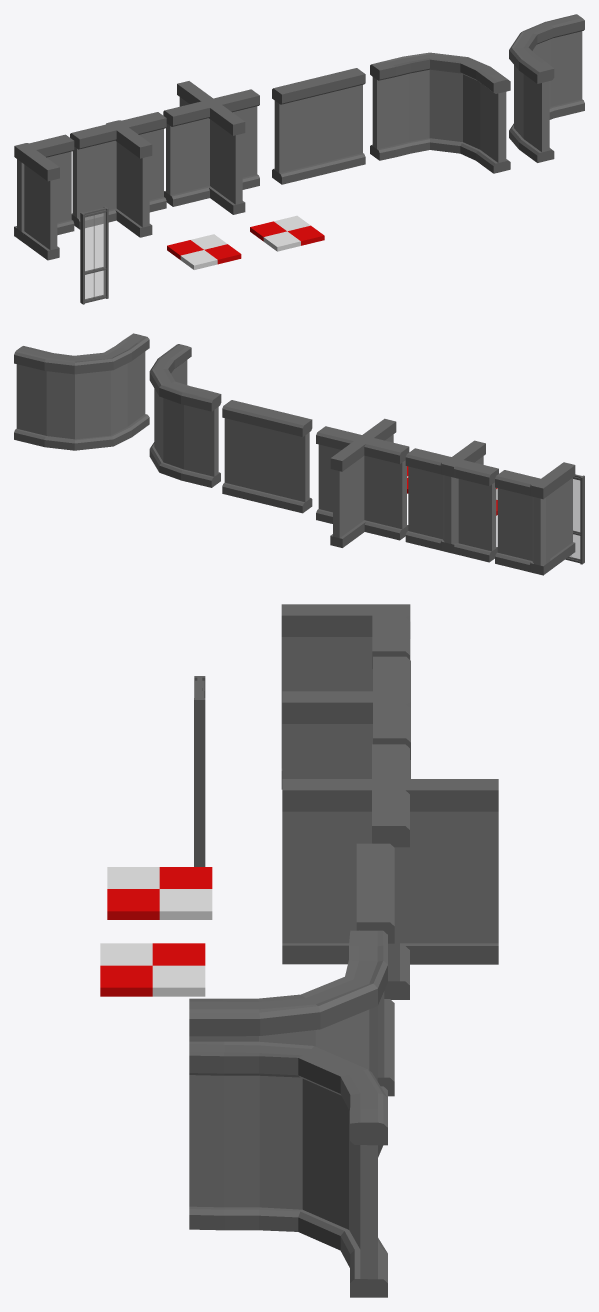
Rendered from WallsPack.fbx.
3 renders of one model, top to bottom at view 1: azimuth 30°, elevation 25°; view 2: azimuth 150°, elevation 25°; view 3: azimuth 270°, elevation 25°, orthographic. The views are drawn at different scales.
Parts seen in each view (by area): view 1: hoek_muur, X_muur, T_muur, muur, hoek_muur1, L_muur, glaze_muur, vloer, kleed; view 2: hoek_muur1, X_muur, T_muur, muur, hoek_muur, L_muur, glaze_muur; view 3: hoek_muur1, X_muur, hoek_muur, T_muur, L_muur, vloer, kleed, muur, glaze_muur.
Part boxes in pixels (x1=…): hoek_muur: x1=370, y1=52, x2=510, y2=173; X_muur: x1=163, y1=81, x2=259, y2=214; T_muur: x1=70, y1=112, x2=166, y2=237; muur: x1=272, y1=68, x2=365, y2=184; hoek_muur1: x1=509, y1=14, x2=584, y2=162; L_muur: x1=14, y1=134, x2=74, y2=260; glaze_muur: x1=80, y1=206, x2=108, y2=304; vloer: x1=250, y1=215, x2=324, y2=251; kleed: x1=167, y1=234, x2=241, y2=269; hoek_muur1: x1=14, y1=333, x2=149, y2=450; X_muur: x1=316, y1=418, x2=409, y2=547; T_muur: x1=405, y1=440, x2=498, y2=562; muur: x1=222, y1=400, x2=312, y2=513; hoek_muur: x1=149, y1=344, x2=221, y2=487; L_muur: x1=495, y1=462, x2=575, y2=575; glaze_muur: x1=565, y1=474, x2=584, y2=564; hoek_muur1: x1=189, y1=1041, x2=387, y2=1297; X_muur: x1=282, y1=744, x2=498, y2=999; hoek_muur: x1=189, y1=930, x2=387, y2=1157; T_muur: x1=282, y1=656, x2=410, y2=778; L_muur: x1=281, y1=604, x2=410, y2=789; vloer: x1=100, y1=943, x2=205, y2=996; kleed: x1=107, y1=867, x2=212, y2=919; muur: x1=356, y1=843, x2=394, y2=1096; glaze_muur: x1=194, y1=676, x2=205, y2=866.
Size of the model in its own units: 2855 by 603 by 921.
